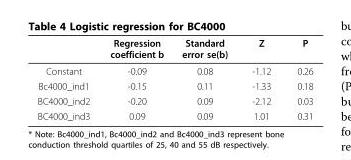table: (36, 36, 312, 121)
table column: (99, 36, 172, 121), (172, 36, 239, 121), (36, 36, 99, 121), (239, 36, 283, 121), (283, 36, 312, 121)
table column header: (36, 36, 312, 62)
table row: (36, 36, 312, 62), (36, 62, 312, 78), (36, 78, 312, 93), (36, 93, 312, 108), (36, 108, 312, 121)
